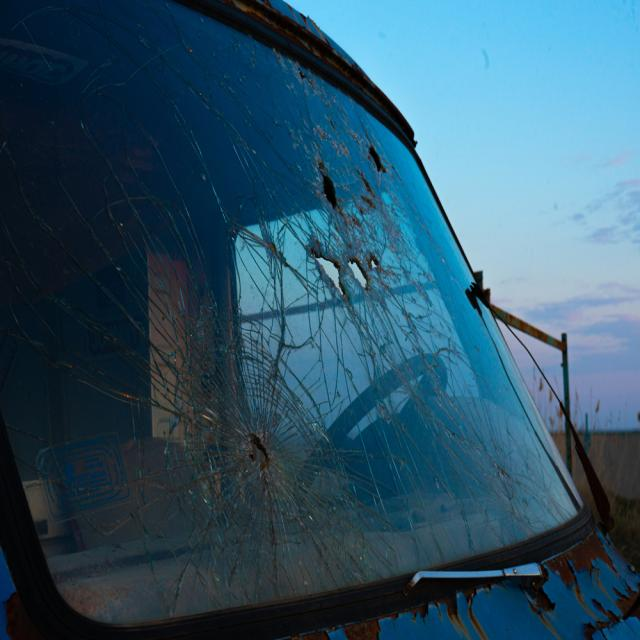glass shatter: (0, 0, 586, 628)
